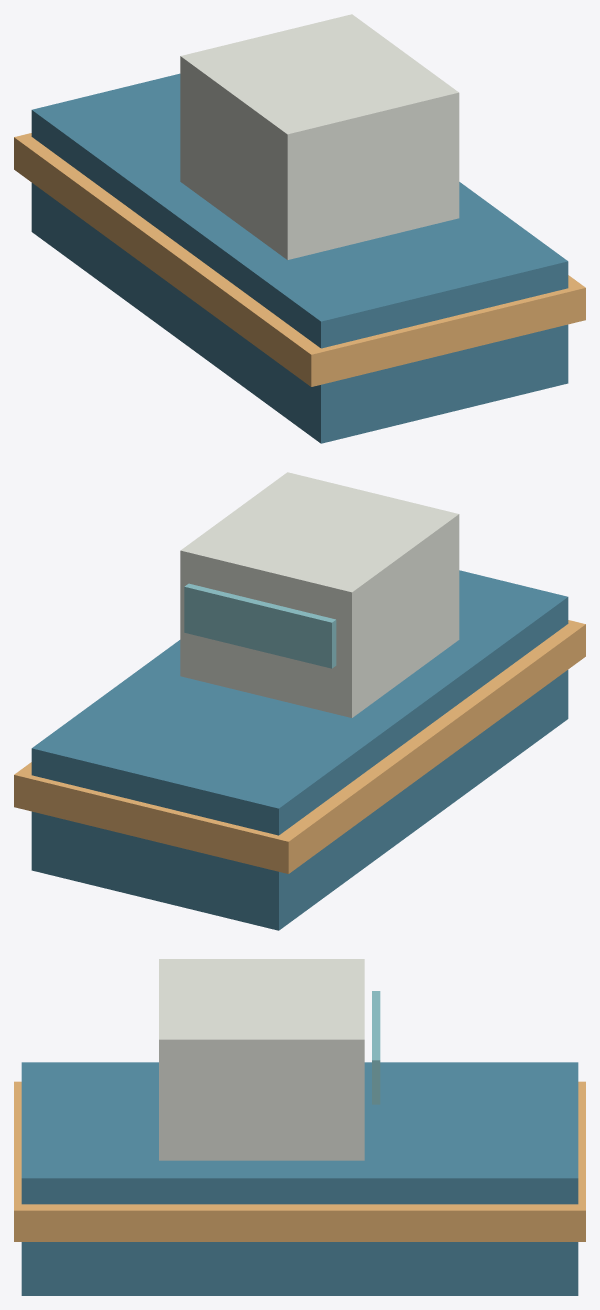
File: tug.glb
3 views of the same model, one above another, from view 1: azimuth 30°, elevation 25°; view 2: azimuth 150°, elevation 25°; view 3: azimuth 270°, elevation 25° (orthographic). The views are drawn at different scales.
Parts seen in each view (by area): view 1: TUG_HULL, TUG_CABIN, TUG_RUBBER_BUMPER; view 2: TUG_HULL, TUG_CABIN, TUG_RUBBER_BUMPER, TUG_WINDOW; view 3: TUG_HULL, TUG_CABIN, TUG_RUBBER_BUMPER, TUG_WINDOW.
Boxes of the visible parts, x1,y1,x2,y2 form: TUG_HULL: (31, 73, 568, 443); TUG_CABIN: (180, 14, 459, 259); TUG_RUBBER_BUMPER: (14, 133, 585, 386); TUG_HULL: (31, 570, 568, 930); TUG_CABIN: (180, 472, 459, 717); TUG_RUBBER_BUMPER: (14, 620, 585, 873); TUG_WINDOW: (184, 583, 336, 668); TUG_HULL: (21, 1062, 578, 1295); TUG_CABIN: (159, 959, 364, 1160); TUG_RUBBER_BUMPER: (14, 1081, 585, 1241); TUG_WINDOW: (372, 991, 380, 1104).
Size of the model in its own units: 4 by 3.45 by 7.5.
